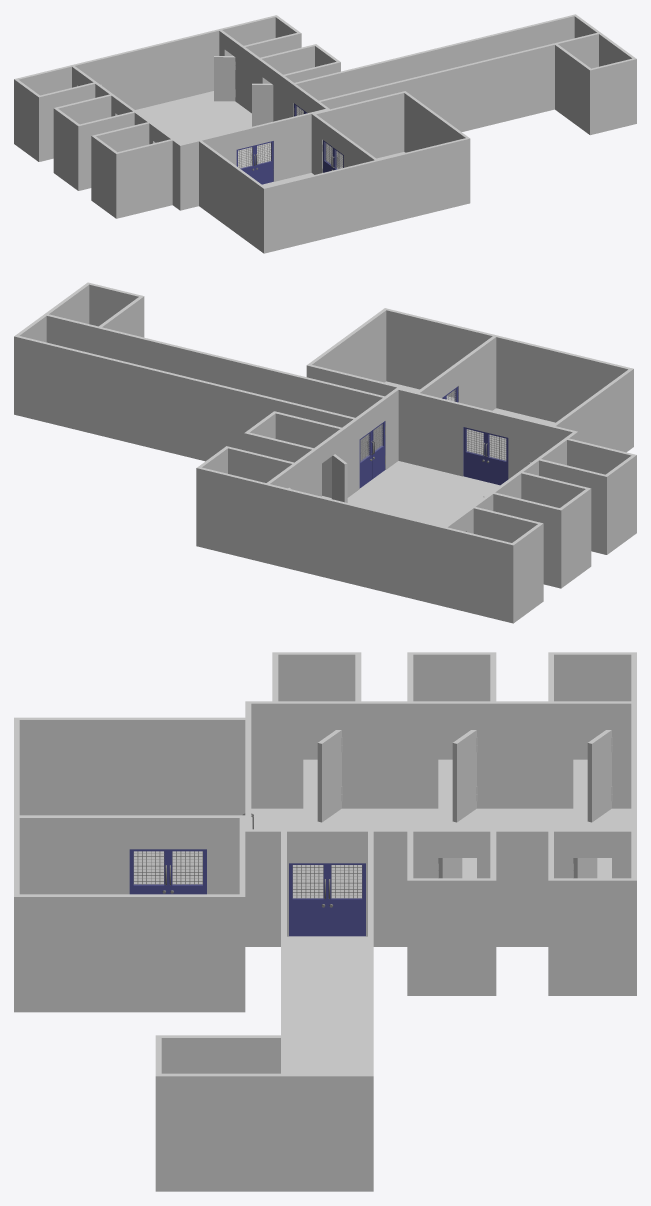
The model's file is PrisonLevelDesign_Blockout.fbx.
3 views of the same model, one above another, from view 1: azimuth 30°, elevation 25°; view 2: azimuth 150°, elevation 25°; view 3: azimuth 270°, elevation 25° (orthographic). The views are drawn at different scales.
Parts seen in each view (by area): view 1: Walls_01, Floor_8x10.001, Floor_6x6.001, Cell_5_Door, Cell_3_Door, Door Ready Model.004, Floor_6x6.002, Floor_Cell_01, Floor_Cell_06, Door Ready Model.003; view 2: Walls_01, Floor_8x10.001, Door Ready Model.004, Door Ready Model.003, Floor_6x6.001, Floor_250x350.007, Floor_Cell_04, Door Ready Model.002, Cell_3_Door, Door Ready Model.001, Floor_250x350.006, Floor_Cell_05; view 3: Walls_01, Floor_8x10.001, Floor_250x350.006, Door Ready Model.001, Door Ready Model.002, Floor_6x6.002, Cell_1_Door, Cell_2_Door, Cell_4_Door, Floor_6x6.001, Door Ready Model.006, Door Ready Model.005 (+4 smaller).
Boxes of the visible parts, x1,y1,x2,y2 form: Walls_01: [14, 14, 636, 247]; Floor_8x10.001: [135, 91, 273, 210]; Floor_6x6.001: [199, 173, 376, 253]; Cell_5_Door: [214, 56, 235, 101]; Cell_3_Door: [252, 83, 273, 126]; Door Ready Model.004: [255, 141, 273, 184]; Floor_6x6.002: [337, 152, 470, 225]; Floor_Cell_01: [91, 195, 172, 218]; Floor_Cell_06: [555, 104, 636, 135]; Door Ready Model.003: [236, 145, 255, 179]; Walls_01: [14, 282, 636, 616]; Floor_8x10.001: [264, 461, 499, 606]; Door Ready Model.004: [463, 427, 485, 481]; Door Ready Model.003: [485, 432, 508, 485]; Floor_6x6.001: [467, 408, 633, 460]; Floor_250x350.007: [14, 407, 127, 441]; Floor_Cell_04: [445, 594, 543, 623]; Door Ready Model.002: [368, 421, 385, 479]; Cell_3_Door: [332, 454, 347, 502]; Door Ready Model.001: [359, 431, 373, 488]; Floor_250x350.006: [127, 435, 212, 461]; Floor_Cell_05: [196, 539, 264, 562]; Walls_01: [14, 652, 636, 1180]; Floor_8x10.001: [245, 806, 631, 946]; Floor_250x350.006: [287, 936, 367, 1073]; Door Ready Model.001: [327, 863, 365, 936]; Door Ready Model.002: [289, 863, 327, 936]; Floor_6x6.002: [14, 1001, 245, 1012]; Cell_1_Door: [317, 730, 342, 822]; Cell_2_Door: [452, 730, 477, 822]; Cell_4_Door: [587, 730, 612, 822]; Floor_6x6.001: [134, 851, 202, 883]; Door Ready Model.006: [129, 849, 168, 894]; Door Ready Model.005: [168, 849, 206, 894].
Size of the model in its own units: 2600 by 330 by 1615.
